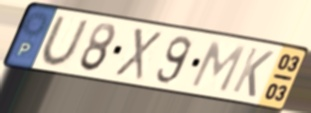8: (76, 21, 118, 74)
9: (153, 34, 192, 86)
K: (229, 46, 277, 100)
M: (187, 39, 248, 95)
U: (40, 14, 92, 69)
X: (112, 25, 165, 83)
